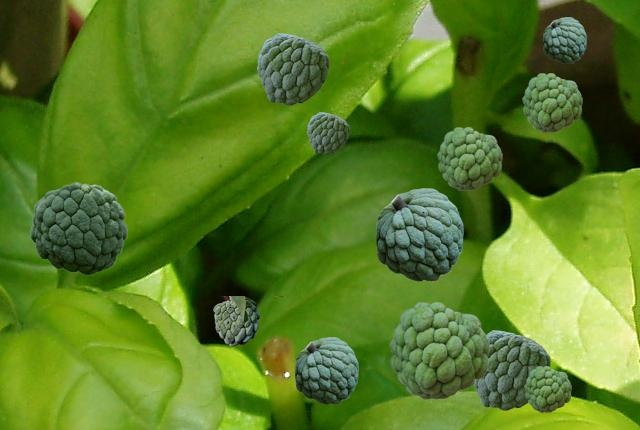atis: (389, 302, 488, 398), (30, 182, 126, 274), (376, 188, 462, 280), (474, 330, 549, 409), (257, 33, 328, 104), (295, 337, 357, 403), (437, 127, 501, 189), (213, 296, 283, 345), (522, 73, 581, 131), (524, 366, 570, 411), (543, 17, 585, 62), (307, 112, 348, 153)
